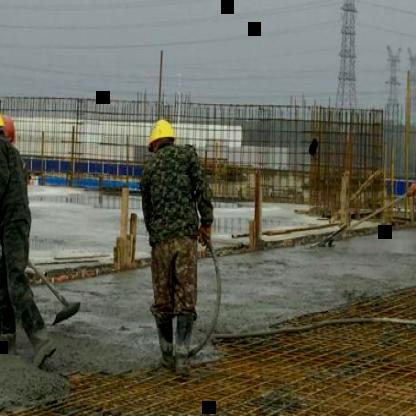helmet: (144, 115, 179, 163), (0, 108, 10, 154)
